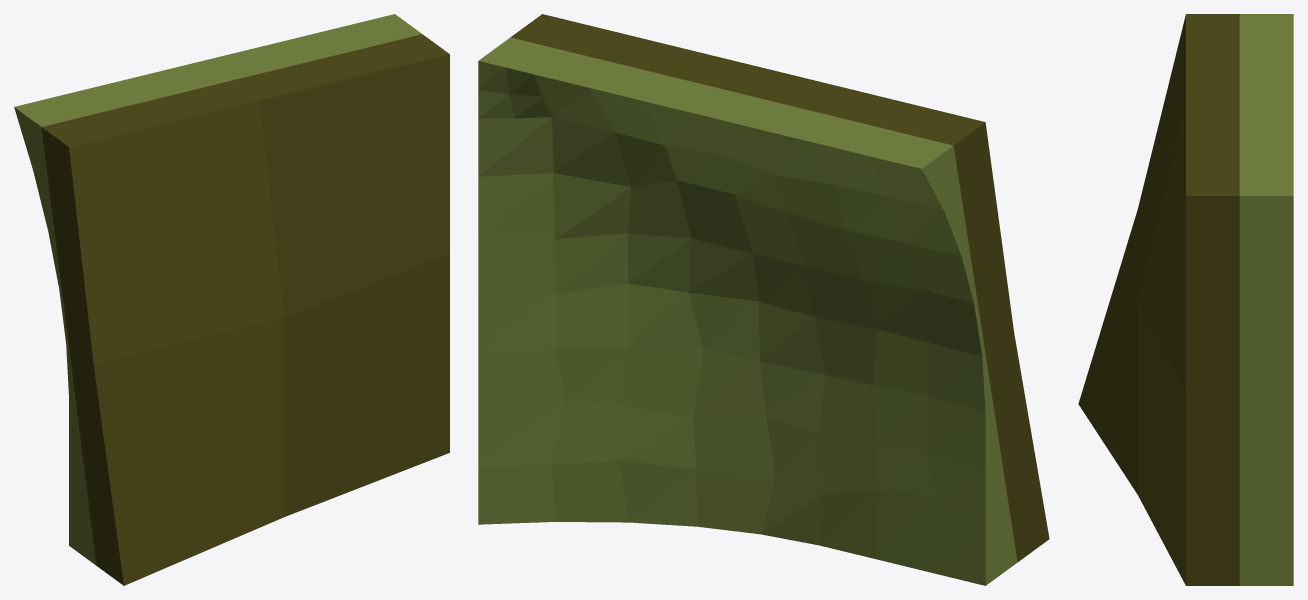
The model's file is Slope_Bottom_Down_Corner.fbx.
3 renders of one model, left to right at view 1: azimuth 30°, elevation 25°; view 2: azimuth 150°, elevation 25°; view 3: azimuth 270°, elevation 25°, orthographic. The views are drawn at different scales.
Parts seen in each view (by area): view 1: Slope_Bottom_Down_Corner; view 2: Slope_Bottom_Down_Corner; view 3: Slope_Bottom_Down_Corner.
Boxes of the visible parts, bbox=[...] form: Slope_Bottom_Down_Corner: bbox=[14, 14, 449, 585]; Slope_Bottom_Down_Corner: bbox=[478, 14, 1049, 585]; Slope_Bottom_Down_Corner: bbox=[1078, 14, 1293, 585].
Bounding box in the file's own units: 400 × 400 × 200.
